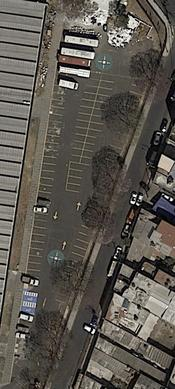parkingspot: (24, 91, 68, 280), (54, 224, 95, 306), (79, 79, 116, 167), (69, 78, 102, 164), (107, 124, 132, 158), (66, 161, 90, 193), (16, 313, 35, 341), (127, 83, 146, 104), (22, 276, 40, 294)
